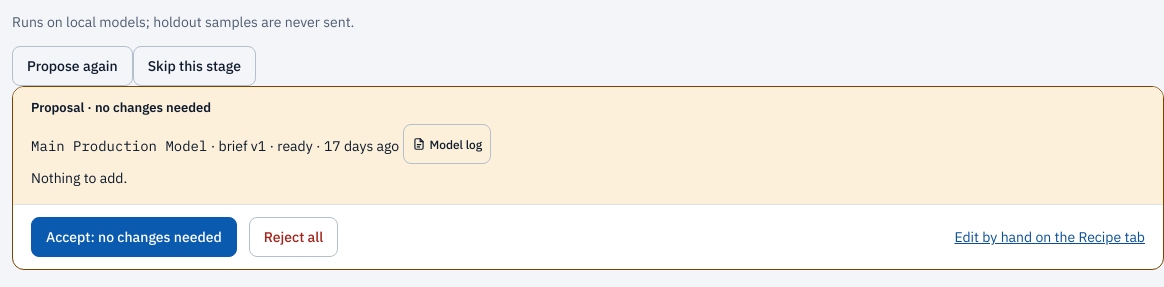
StagePanel › accepts a run that proposes no changes, sending none
Click the button "Accept: no changes needed" at {"x": 134, "y": 237}, box [31,217,237,257]
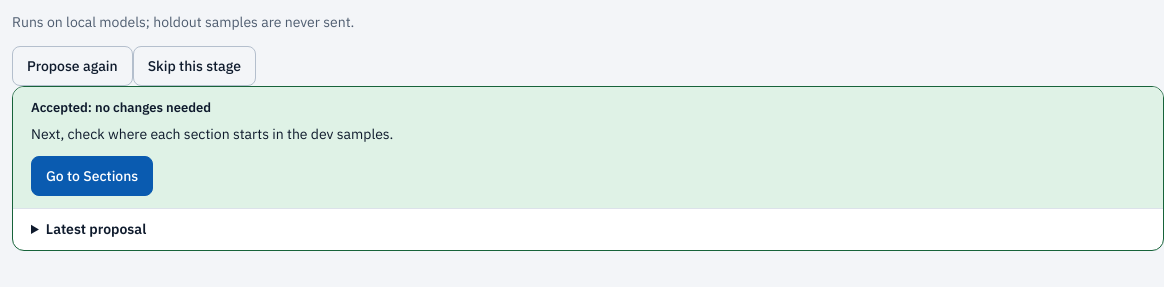
Expected: the heading "Accepted: no changes needed" is shown, [31,99,211,116]
